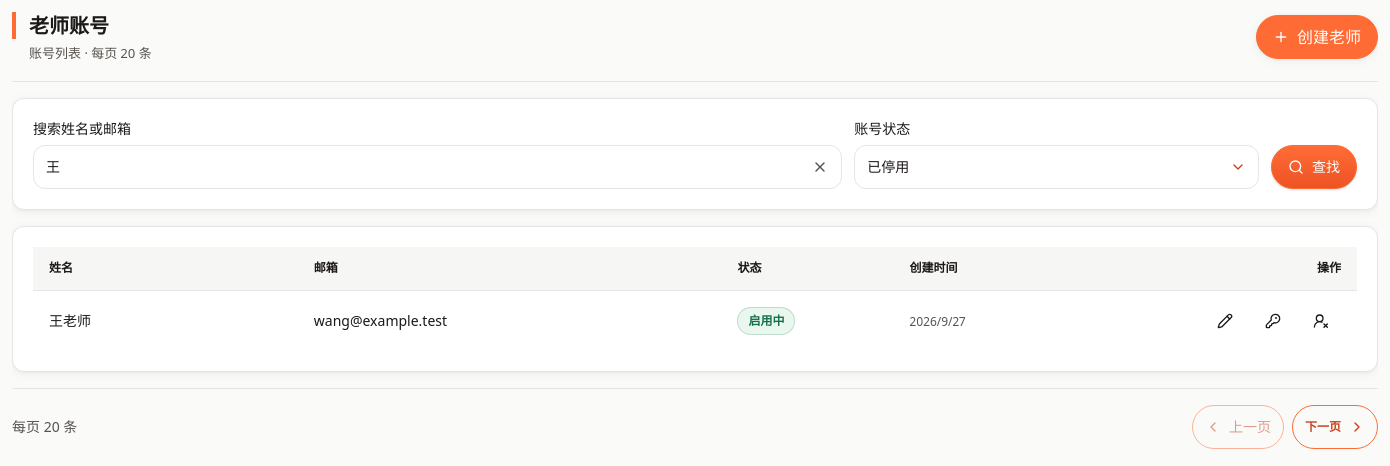
Test: clearing the teacher search resets the account status filter immediately
This screenshot has width=1390, height=466.
Expected: the dropdown named "账号状态" reads "已停用", x1=854 y1=145 x2=1259 y2=189
Click the button named "清空输入内容" at (820, 167), box x1=802 y1=149 x2=838 y2=185
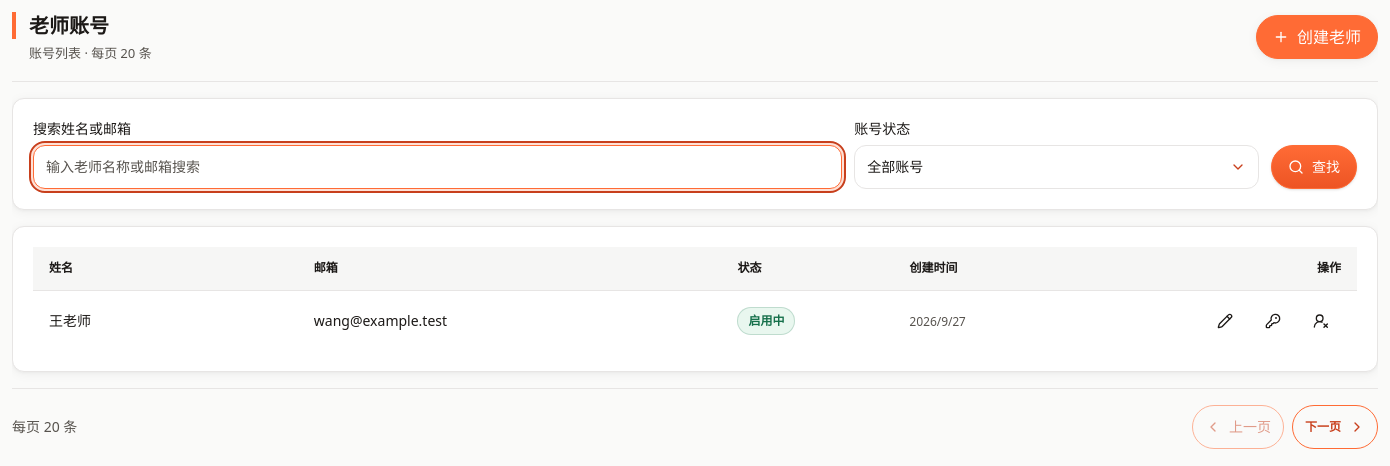
Expected: the dropdown named "账号状态" reads "全部账号", x1=854 y1=145 x2=1259 y2=189
